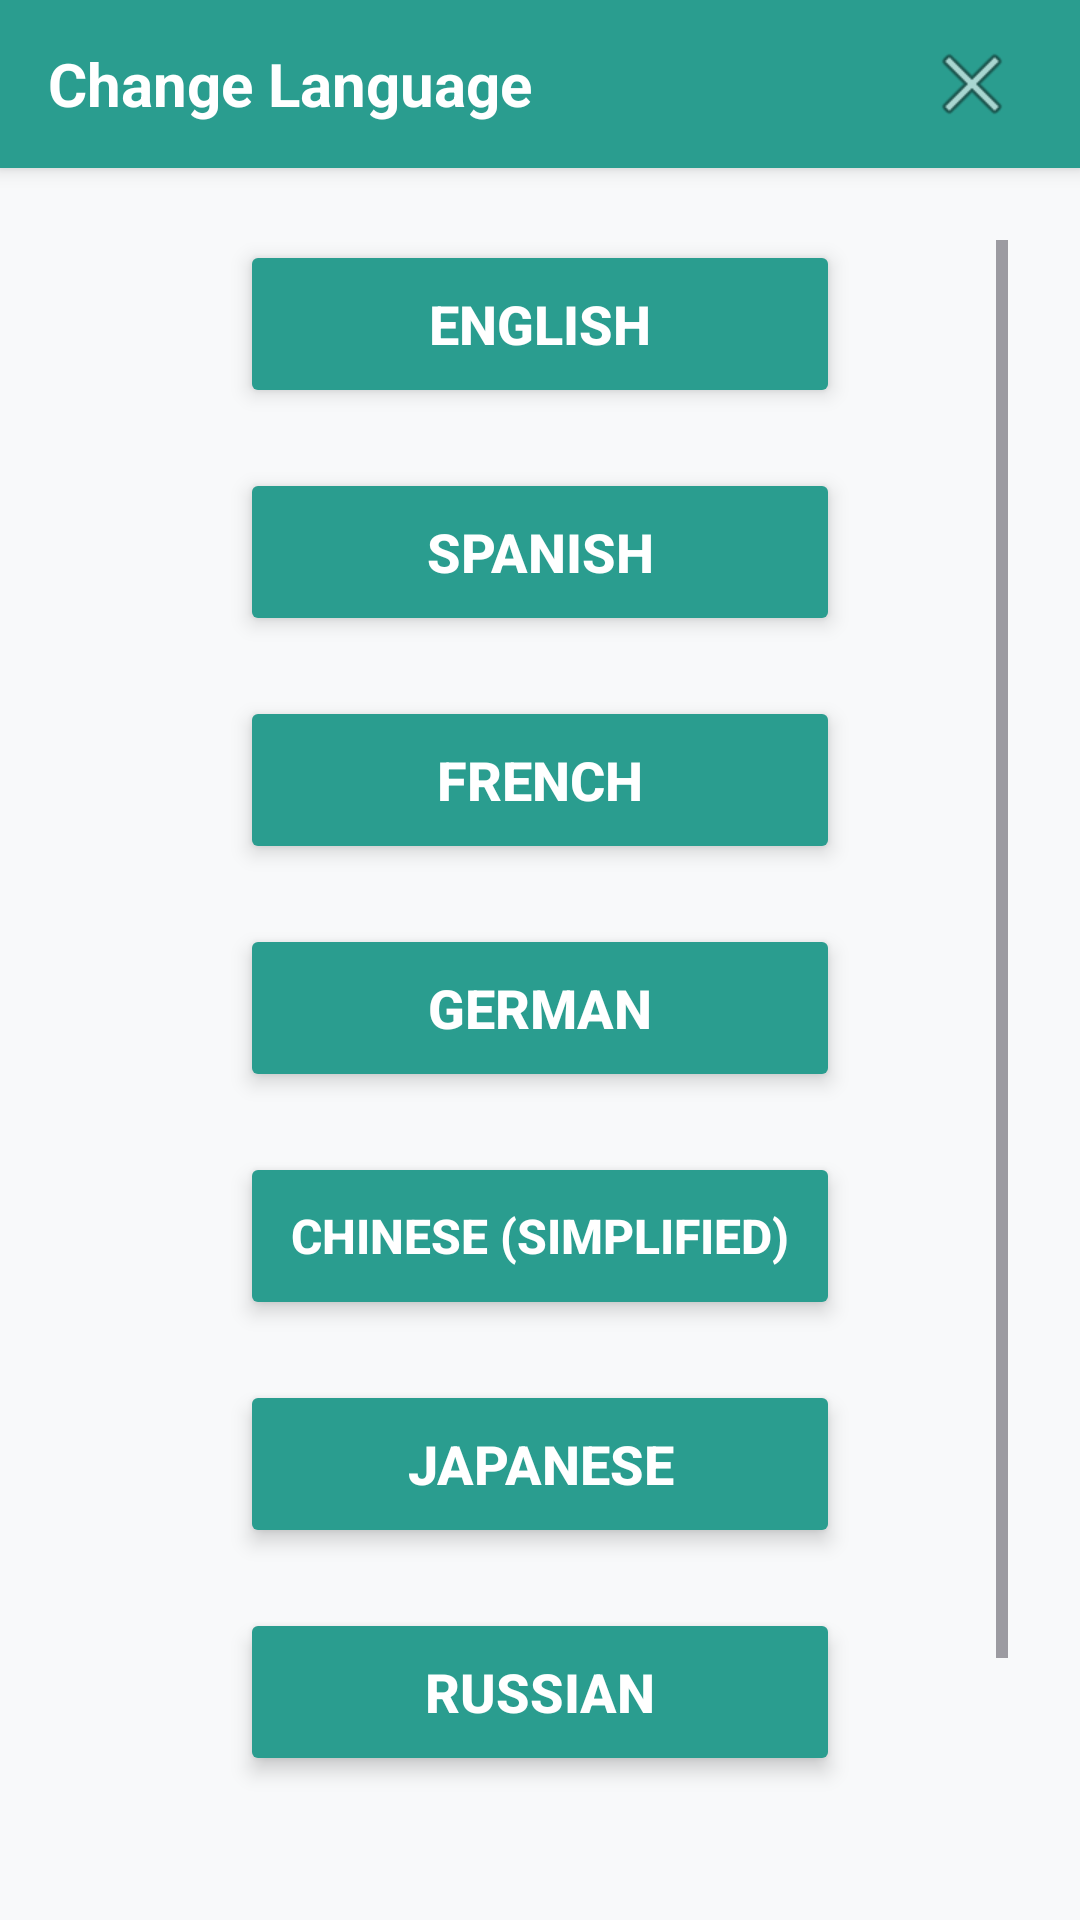

Screen size 1080×1920. Icon name, then its box in pixels as (x1, y1, x2, y2):
Exit: (942, 54, 1002, 114)
